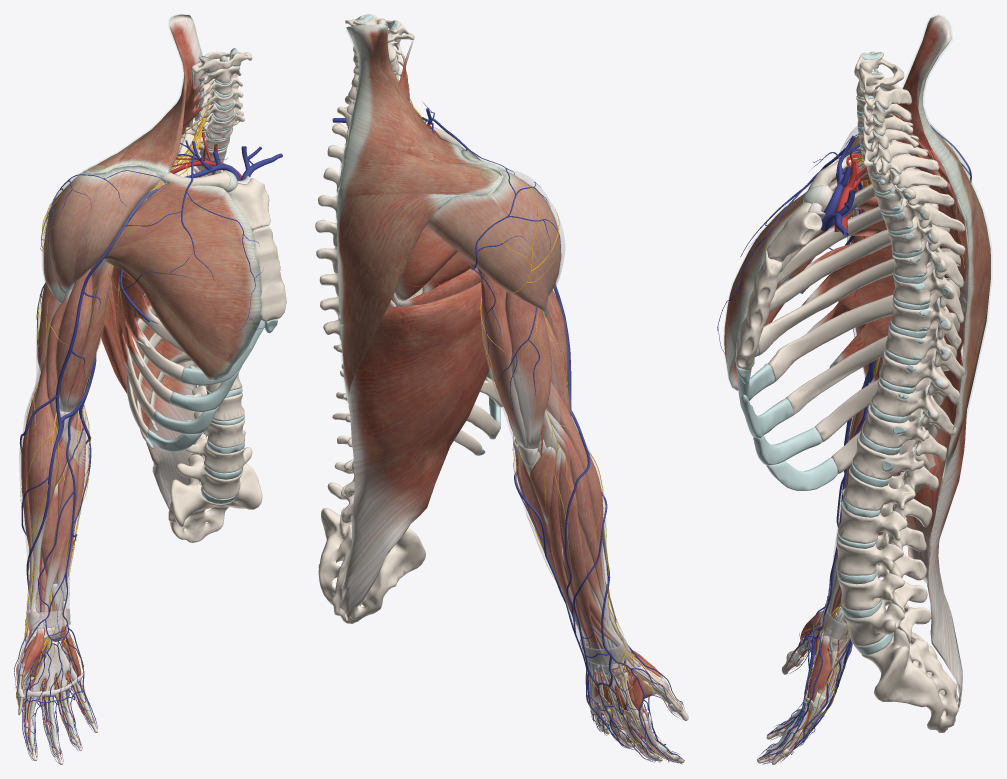
Rendered from upper-limb.glb.
3 renders of one model, left to right at view 1: azimuth 30°, elevation 25°; view 2: azimuth 150°, elevation 25°; view 3: azimuth 270°, elevation 25°, orthographic. The views are drawn at different scales.
Parts seen in each view (by area): view 1: Pectoralis major.r, Brachial fascia.r, Antebrachial fascia.r, Deltoid muscle.r, Latissimus dorsi.r, Trapezius muscle.r, Brachioradialis muscle.r, Sacrum, Long head of biceps brachii.r, Serratus anterior muscle.r, Short head of biceps brachii.r, Body of sternum (+37 smaller); view 2: Latissimus dorsi.r, Trapezius muscle.r, Brachial fascia.r, Antebrachial fascia.r, Deltoid muscle.r, Sacrum, Lateral head of triceps brachii.r, Extensor digitorum.r, Long head of triceps brachii.r, Superficial veins of upper limb.r, Infraspinatus muscle.r, Extensor carpi radialis longus.r (+14 smaller); view 3: Trapezius muscle.r, Latissimus dorsi.r, Sacrum, Serratus anterior muscle.r, Pectoralis major.r, Rib (7th).r, Rib (6th).r, Body of sternum, Lumbar vertebra (L3), Lumbar vertebra (L2), Lumbar vertebra (L1), Lumbar vertebra (L4) (+43 smaller).
Boxes of the visible parts, x1,y1,x2,y2 form: Pectoralis major.r: (103,182,261,380); Brachial fascia.r: (31,164,167,412); Antebrachial fascia.r: (19,397,88,611); Deltoid muscle.r: (43,165,164,303); Latissimus dorsi.r: (101,279,197,509); Trapezius muscle.r: (83,14,203,174); Brachioradialis muscle.r: (27,356,58,615); Sacrum: (168,463,262,542); Long head of biceps brachii.r: (56,268,92,411); Serratus anterior muscle.r: (111,164,183,372); Short head of biceps brachii.r: (65,261,113,412); Body of sternum: (252,226,286,321); Latissimus dorsi.r: (340,282,490,620); Trapezius muscle.r: (337,24,501,403); Brachial fascia.r: (422,148,575,448); Antebrachial fascia.r: (513,425,623,648); Deltoid muscle.r: (426,148,561,317); Sacrum: (318,507,425,623); Lateral head of triceps brachii.r: (505,292,551,448); Extensor digitorum.r: (559,449,662,755); Long head of triceps brachii.r: (479,269,528,448); Superficial veins of upper limb.r: (466,149,616,647); Infraspinatus muscle.r: (394,225,457,300); Extensor carpi radialis longus.r: (546,410,624,678); Trapezius muscle.r: (852,15,990,478); Latissimus dorsi.r: (900,312,967,716); Sacrum: (861,604,958,732); Serratus anterior muscle.r: (801,167,967,383); Pectoralis major.r: (724,177,854,390); Rib (7th).r: (767,278,960,381); Rib (6th).r: (758,248,960,355); Body of sternum: (735,250,781,370); Lumbar vertebra (L3): (836,532,926,580); Lumbar vertebra (L2): (838,502,926,551); Lumbar vertebra (L1): (843,469,932,527); Lumbar vertebra (L4): (837,565,927,613).
Bounding box in the file's own units: 0.4072 × 0.8839 × 0.2562.
95 materials, 12 textured.
